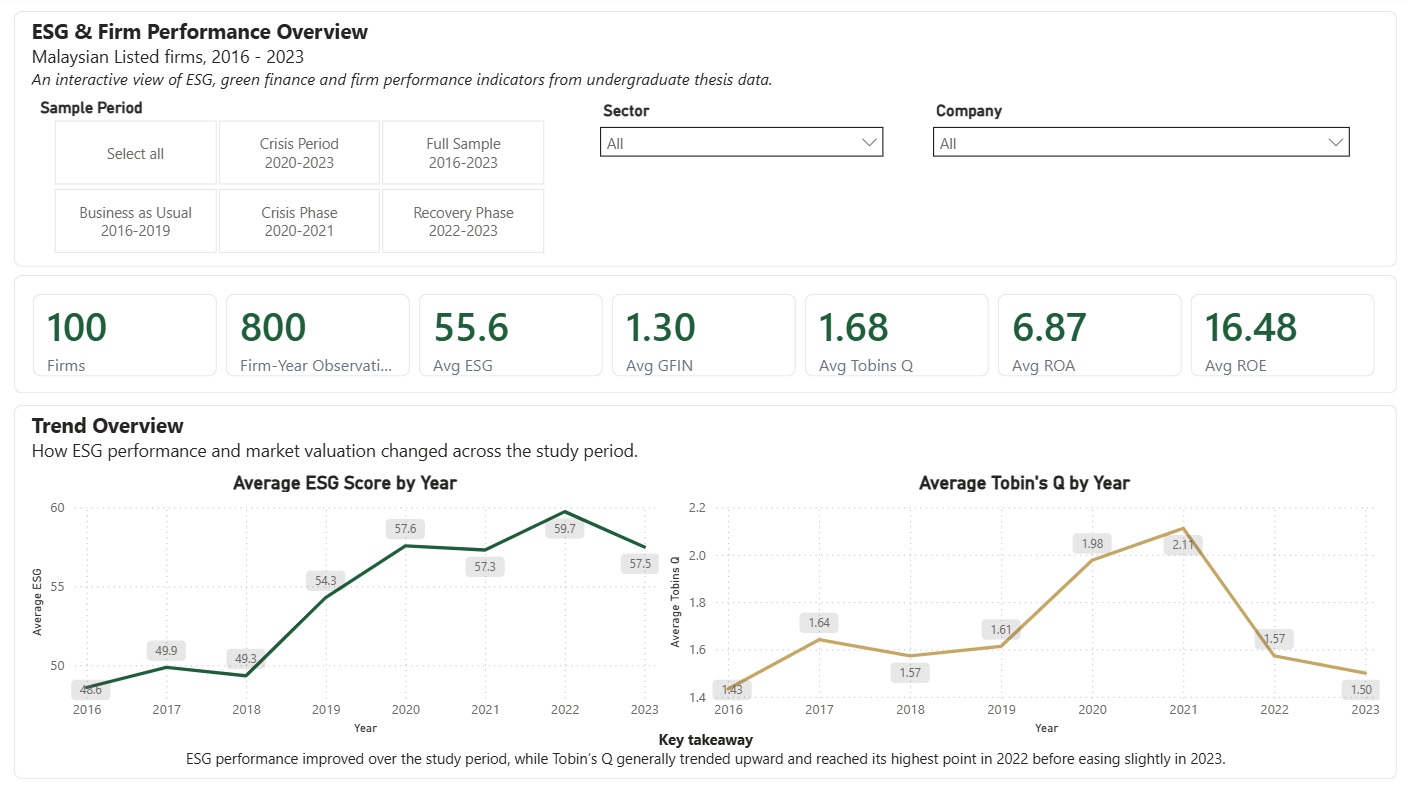

This screenshot's page, from the dashboard's own definition file:
{"tool":"powerbi","page":{"name":"Overview","canvas":[1280,720],"ordinal":0},"visuals":[{"type":"shape","box":[12.9,253.4,1254.2,107.4],"z":0},{"type":"shape","box":[12.9,14,1254.2,231.9],"z":1000},{"type":"textbox","box":[23.6,14,812.9,78.4],"z":2000},{"type":"cardVisual","title":"Firms","fields":{"Data":["FirmYear_Data.Total Firms","FirmYear_Data.Total Observations","FirmYear_Data.Average ESG","FirmYear_Data.Average GFIN","FirmYear_Data.Average Tobins Q","FirmYear_Data.Average ROA","FirmYear_Data.Average ROE"]},"box":[12.9,253.4,1254.2,109.5],"z":3000},{"type":"shape","box":[12.9,370.5,1254.2,339.3],"z":10000},{"type":"slicer","fields":{"Values":["Regression_Results.SamplePeriod"]},"box":[23.6,88.1,494,152.5],"z":11000},{"type":"slicer","fields":{"Values":["Industry_Dimension.SectorCategory"]},"box":[534.2,90.4,276.8,125.8],"z":12000},{"type":"slicer","fields":{"Values":["FirmYear_Data.CompanyName"]},"box":[836.2,90.4,398.1,74.4],"z":13000},{"type":"lineChart","title":"Average ESG Score by Year","fields":{"Category":["Year_Dimension.Year"],"Y":["FirmYear_Data.Average ESG"]},"box":[23.6,430.6,578.8,243.8],"z":14000},{"type":"lineChart","title":"Average Tobin''s Q by Year","fields":{"Category":["Year_Dimension.Year"],"Y":["FirmYear_Data.Average Tobins Q"]},"box":[602.4,430.6,654,243.8],"z":15000},{"type":"textbox","box":[23.6,370.5,1210.2,60.1],"z":16000},{"type":"textbox","box":[23.6,660.4,1232.8,49.4],"z":17000}]}

Visuals, with their boxes in screenshot pixels (x1, y1, x2, y2), scaled from the page's 1280x720 canvas onto the 1408x786 screenshot:
shape: l=14, t=277, r=1394, b=394
shape: l=14, t=15, r=1394, b=268
textbox: l=26, t=15, r=920, b=101
"Firms" cardVisual: l=14, t=277, r=1394, b=396
shape: l=14, t=404, r=1394, b=775
slicer - Regression_Results.SamplePeriod: l=26, t=96, r=569, b=263
slicer - Industry_Dimension.SectorCategory: l=588, t=99, r=892, b=236
slicer - FirmYear_Data.CompanyName: l=920, t=99, r=1358, b=180
"Average ESG Score by Year" lineChart: l=26, t=470, r=663, b=736
"Average Tobin''s Q by Year" lineChart: l=663, t=470, r=1382, b=736
textbox: l=26, t=404, r=1357, b=470
textbox: l=26, t=721, r=1382, b=775
